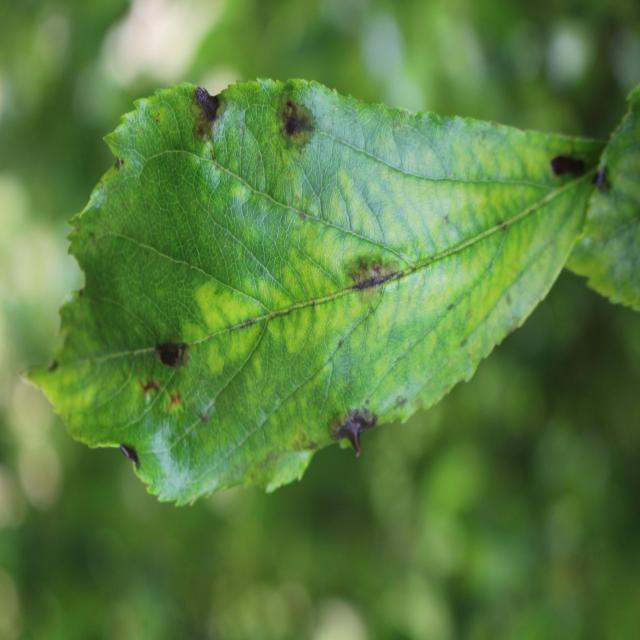scab: (541, 135, 617, 204), (340, 245, 412, 312), (272, 67, 318, 154), (328, 404, 386, 466), (184, 72, 226, 143), (110, 429, 152, 482), (152, 325, 190, 374)
